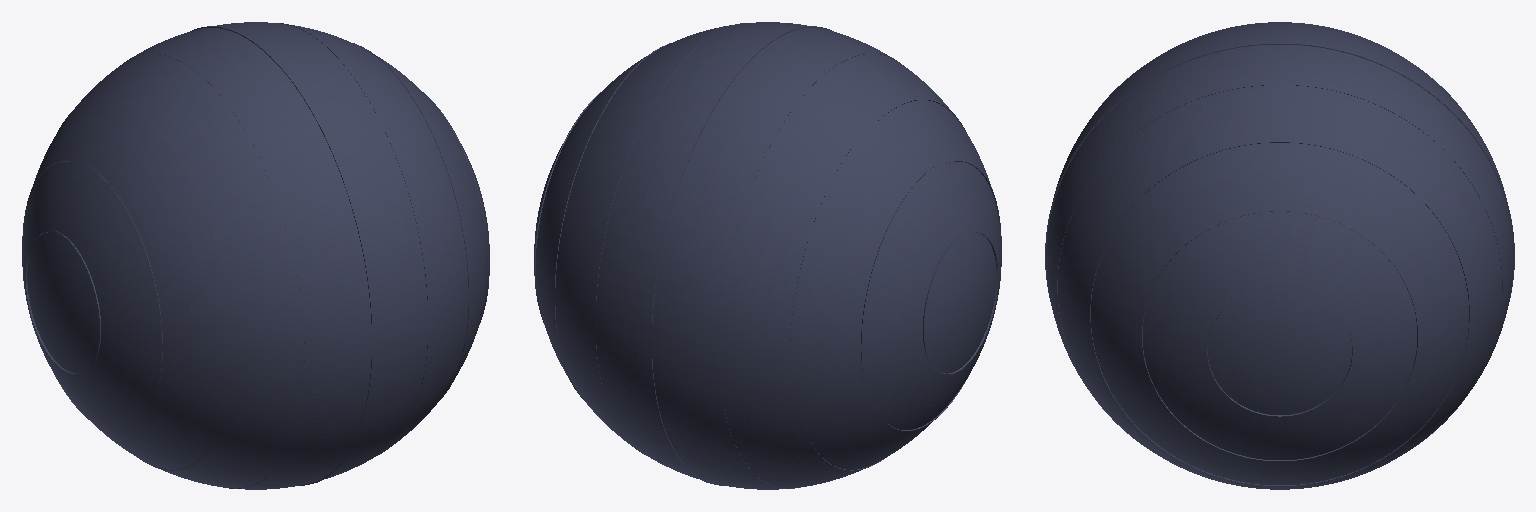
Rendered from yoga_ball_04.obj.
The picture shows the model from 3 angles: view 1: azimuth 30°, elevation 25°; view 2: azimuth 150°, elevation 25°; view 3: azimuth 270°, elevation 25°; orthographic projection.
Parts seen in each view (by area): view 1: mesh12, mesh16, mesh8, mesh20, mesh4, mesh24, mesh0, mesh28, mesh14, mesh10, mesh18, mesh6 (+1 smaller); view 2: mesh12, mesh16, mesh8, mesh20, mesh4, mesh24, mesh0, mesh28, mesh14, mesh10, mesh18, mesh6 (+1 smaller); view 3: mesh28, mesh32, mesh24, mesh20, mesh36, mesh16, mesh30, mesh26, mesh22, mesh34, mesh19, mesh27.
Boxes of the visible parts, x1=… form: mesh12: x1=75, y1=54, x2=304, y2=488; mesh16: x1=136, y1=28, x2=371, y2=489; mesh8: x1=34, y1=100, x2=230, y2=469; mesh20: x1=217, y1=22, x2=427, y2=478; mesh4: x1=22, y1=162, x2=159, y2=429; mesh24: x1=293, y1=25, x2=468, y2=443; mesh0: x1=27, y1=232, x2=97, y2=373; mesh28: x1=379, y1=57, x2=487, y2=375; mesh14: x1=130, y1=52, x2=306, y2=488; mesh10: x1=68, y1=98, x2=233, y2=471; mesh18: x1=207, y1=26, x2=373, y2=482; mesh6: x1=27, y1=159, x2=162, y2=432; mesh12: x1=719, y1=54, x2=948, y2=488; mesh16: x1=652, y1=28, x2=887, y2=489; mesh8: x1=793, y1=100, x2=989, y2=469; mesh20: x1=596, y1=22, x2=806, y2=478; mesh4: x1=864, y1=162, x2=1001, y2=429; mesh24: x1=555, y1=25, x2=730, y2=443; mesh0: x1=926, y1=232, x2=996, y2=373; mesh28: x1=536, y1=57, x2=644, y2=375; mesh14: x1=717, y1=52, x2=893, y2=488; mesh10: x1=790, y1=98, x2=955, y2=471; mesh18: x1=650, y1=26, x2=816, y2=482; mesh6: x1=861, y1=159, x2=996, y2=432; mesh28: x1=1091, y1=143, x2=1468, y2=484; mesh32: x1=1143, y1=211, x2=1416, y2=459; mesh24: x1=1058, y1=85, x2=1501, y2=489; mesh20: x1=1046, y1=45, x2=1513, y2=388; mesh36: x1=1208, y1=285, x2=1351, y2=414; mesh16: x1=1053, y1=24, x2=1506, y2=198; mesh30: x1=1140, y1=209, x2=1419, y2=462; mesh26: x1=1089, y1=140, x2=1470, y2=486; mesh22: x1=1057, y1=83, x2=1502, y2=419; mesh34: x1=1205, y1=282, x2=1354, y2=417; mesh19: x1=1045, y1=44, x2=1514, y2=305; mesh27: x1=1090, y1=142, x2=1469, y2=485.
Bounding box in the file's own units: 0.75 × 0.7536 × 0.7537.